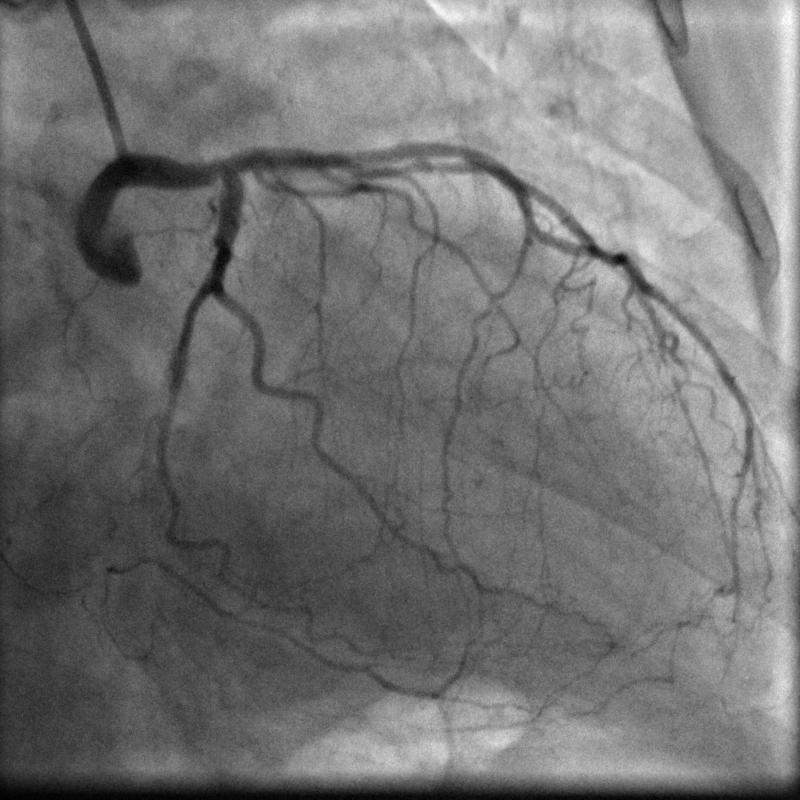Stenosis: (399, 153, 479, 182)
